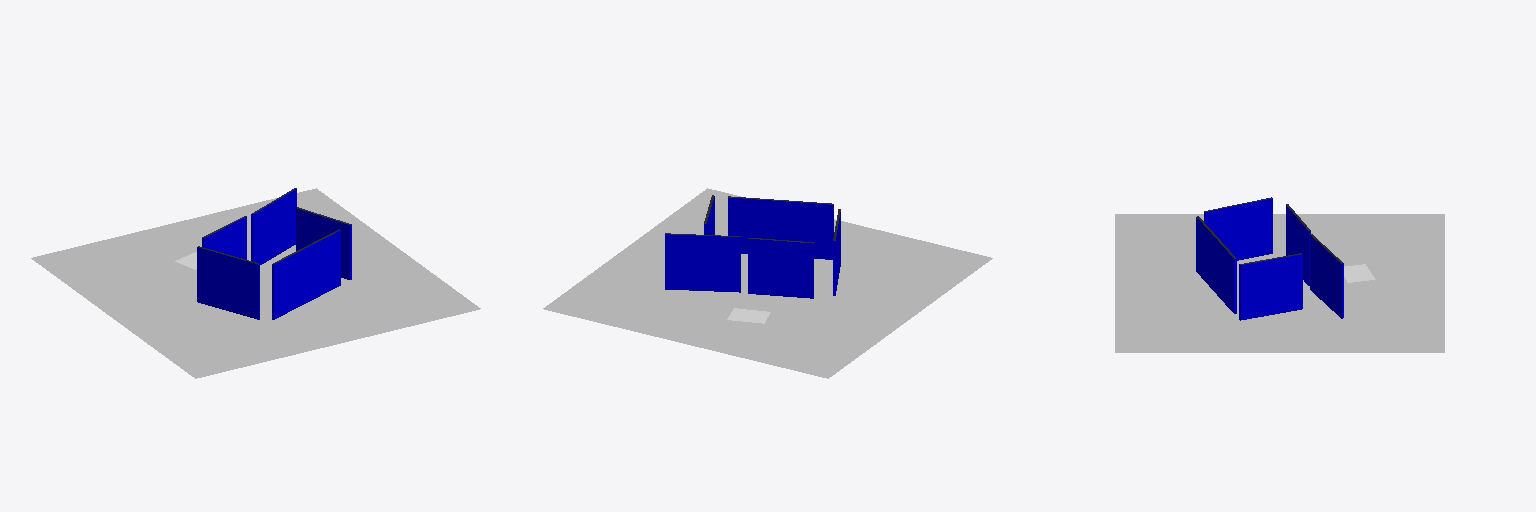
Rendered from foo.obj.
3 renders of one model, left to right at view 1: azimuth 30°, elevation 25°; view 2: azimuth 150°, elevation 25°; view 3: azimuth 270°, elevation 25°, orthographic.
Bounding box in the file's own units: 1.1 × 0.2032 × 1.1.